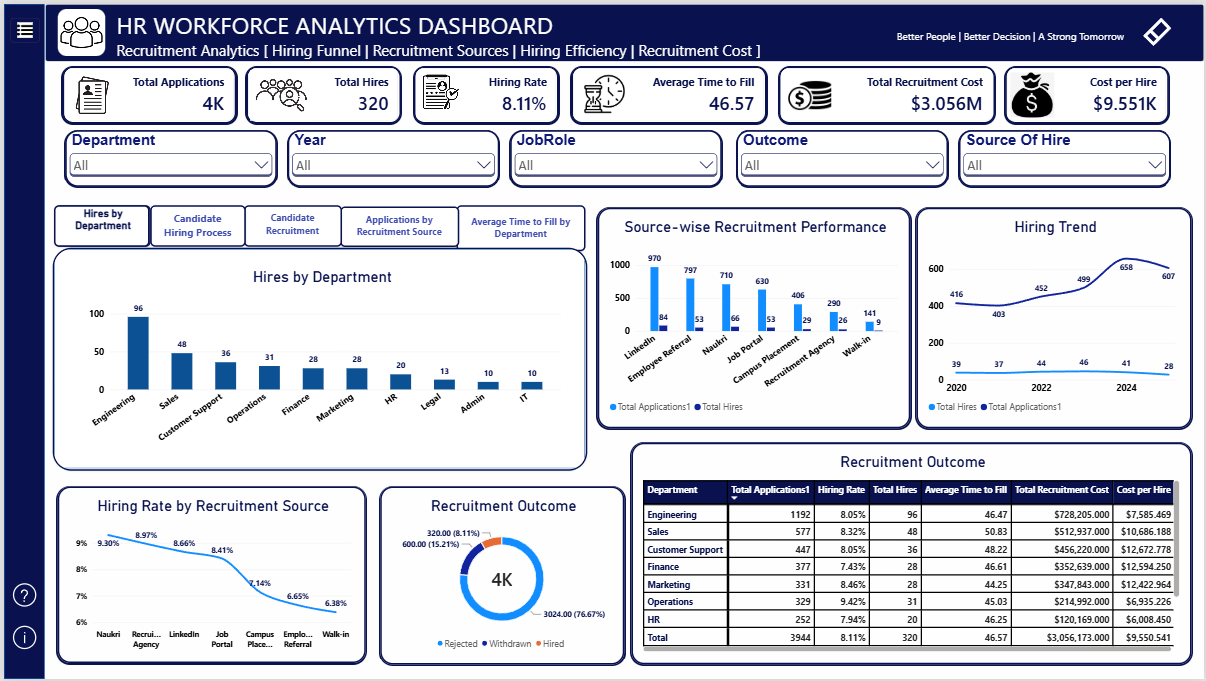

The dashboard page shown, as its layout file describes it:
{"tool":"powerbi","page":{"name":"Recruitment Analytics","canvas":[1920,1080],"ordinal":2},"visuals":[{"type":"shape","title":"side corner layout","box":[0,0,65,1080],"z":0,"group":"g14"},{"type":"actionButton","title":"top nav bar","box":[66,0,1854,92],"z":0,"group":"g13"},{"type":"cardVisual","fields":{"Data":["Measures (2).Total Recruitment Cost"]},"box":[1240.4,100,345.2,90.8],"z":0,"group":"g3"},{"type":"cardVisual","fields":{"Data":["Measures (2).Total Applications"]},"box":[94,100.2,277.4,90.8],"z":0,"group":"g7"},{"type":"cardVisual","fields":{"Data":["Measures (2).Total Hires"]},"box":[388.6,100.2,246.8,90.8],"z":0,"group":"g9"},{"type":"cardVisual","fields":{"Data":["Measures (2).Hiring Rate"]},"box":[655.6,100.2,231.5,90.8],"z":0,"group":"g8"},{"type":"cardVisual","fields":{"Data":["Measures (2).Average Time to Fill"]},"box":[907.4,100.2,311.9,90.8],"z":0,"group":"g5"},{"type":"cardVisual","fields":{"Data":["Measures (2).Cost per Hire"]},"box":[1602.7,100.6,261.3,90.8],"z":0,"group":"g1"},{"type":"group","id":"g1","title":"Group 4","box":[1602.7,100.6,261.3,90.8],"z":0,"group":"g11"},{"type":"slicer","fields":{"Values":["DimDate.Year"]},"box":[454.8,202,338.7,90],"z":0,"group":"g12"},{"type":"group","id":"g2","title":"inactive button","box":[82,322.9,848.3,73.3],"z":0,"group":"g10"},{"type":"actionButton","title":"time to fill","box":[723.7,322.9,206.7,73.3],"z":0,"group":"g2"},{"type":"shape","box":[78.7,390.7,855,356.7],"z":0,"group":"g4"},{"type":"image","title":"people icon","box":[85,7.5,76,75],"z":1000,"group":"g13"},{"type":"group","id":"g3","title":"Group 3","box":[1240.4,100,345.2,90.8],"z":1000,"group":"g11"},{"type":"image","box":[394.6,105.6,99.2,80.7],"z":1000,"group":"g9"},{"type":"image","box":[100.8,107.3,82,75.7],"z":1000,"group":"g7"},{"type":"image","box":[664.8,108.9,64.8,70.6],"z":1000,"group":"g8"},{"type":"image","box":[914.7,108.9,89.6,72.3],"z":1000,"group":"g5"},{"type":"image","box":[1611,109.6,70.6,75.7],"z":1000,"group":"g1"},{"type":"image","box":[1250.5,111.2,78.2,69],"z":1000,"group":"g3"},{"type":"slicer","fields":{"Values":["FactRecruitment.Outcome"]},"box":[1172.8,202,338.7,90],"z":1000,"group":"g12"},{"type":"group","id":"g4","title":"active buttons","box":[78.7,322.7,855,425],"z":1000,"group":"g10"},{"type":"actionButton","title":"src","box":[537,324.9,190,65],"z":1000,"group":"g2"},{"type":"actionButton","title":"info","box":[7.5,985,50,50],"z":1000,"group":"g14"},{"type":"actionButton","title":"clear slicer","box":[1794,12,102,66],"z":1500,"group":"g13"},{"type":"textbox","box":[180,7.5,1220,85],"z":2000,"group":"g13"},{"type":"group","id":"g5","title":"Group 1","box":[907.4,100.2,311.9,90.8],"z":2000,"group":"g11"},{"type":"slicer","fields":{"Values":["DimDepartment.Department"]},"box":[98,202,338.7,90],"z":2000,"group":"g12"},{"type":"actionButton","title":"c_rect","box":[383.7,323.3,156.7,66.7],"z":2000,"group":"g2"},{"type":"group","id":"g6","title":"charts","box":[97.2,397.8,816.6,341.4],"z":2000,"group":"g10"},{"type":"actionButton","title":"help","box":[7.5,917.5,50,50],"z":2000,"group":"g14"},{"type":"textbox","box":[1306,22,486,62],"z":2500,"group":"g13"},{"type":"actionButton","title":"menu Button","box":[10,22.5,47.5,40],"z":3000,"group":"g14"},{"type":"group","id":"g7","title":"Group 1","box":[94,100.2,277.4,90.8],"z":3000,"group":"g11"},{"type":"slicer","fields":{"Values":["FactRecruitment.SourceOfHire"]},"box":[1527.3,202,338.7,90],"z":3000,"group":"g12"},{"type":"actionButton","title":"candidate","box":[234.5,323.8,152.5,66.2],"z":3000,"group":"g2"},{"type":"group","id":"g8","title":"Group 1","box":[655.6,100.2,231.5,90.8],"z":4000,"group":"g11"},{"type":"slicer","fields":{"Values":["DimEmployee.JobRole"]},"box":[809.3,202,338.7,90],"z":4000,"group":"g12"},{"type":"actionButton","title":"hires by dept","box":[82,323.8,152.5,66.2],"z":4000,"group":"g2"},{"type":"clusteredColumnChart","title":"Hires by Department","fields":{"Category":["DimDepartment.Department"],"Y":["Measures (2).Total Hires"]},"box":[113.7,407.7,795,323.3],"z":4000,"group":"g6"},{"type":"group","id":"g9","title":"Group 1","box":[388.6,100.2,246.8,90.8],"z":5000,"group":"g11"},{"type":"actionButton","title":"Hires by Department","box":[81.4,323.3,152.5,66.2],"z":5000,"group":"g4"},{"type":"lineChart","title":"Hiring Trend","fields":{"Category":["DimDate.Year"],"Y":["Measures (2).Total Hires","Measures (2).Total Applications1"]},"box":[1460,325,440,352.5],"z":5000},{"type":"clusteredColumnChart","title":"Source-wise Recruitment Performance","fields":{"Category":["FactRecruitment.SourceOfHire"],"Y":["Measures (2).Total Applications1","Measures (2).Total Hires"]},"box":[950,325,500,352.5],"z":6000},{"type":"lineChart","title":"Hiring Rate by Recruitment Source","fields":{"Category":["FactRecruitment.SourceOfHire"],"Y":["Measures (2).Hiring Rate"]},"box":[85,772.5,492.5,282.5],"z":7000},{"type":"donutChart","title":"Recruitment Outcome","fields":{"Category":["FactRecruitment.Outcome"],"Y":["Measures (2).Total Applications1"]},"box":[602.5,772.5,390,285],"z":8000},{"type":"pivotTable","title":"Recruitment Outcome","fields":{"Rows":["DimDepartment.Department"],"Values":["Measures (2).Total Applications1","Measures (2).Hiring Rate","Measures (2).Total Hires","Measures (2).Average Time to Fill","Measures (2).Total Recruitment Cost","Measures (2).Cost per Hire"]},"box":[1004,702,896,354],"z":9000},{"type":"group","id":"g10","title":"charts","box":[78.7,322.7,855,425],"z":10000},{"type":"group","id":"g11","title":"Group 2","box":[94,100,1770,92],"z":10031},{"type":"group","id":"g12","title":"slicer","box":[98,202,1768,90],"z":10062},{"type":"group","id":"g13","title":"top nav bar","box":[66,0,1854,92.5],"z":10156},{"type":"group","id":"g14","title":"menu bar","box":[0,0,66,1080],"z":10500}]}

Visuals, with their boxes in screenshot pixels (x1, y1, x2, y2), scaled from the page's 1920x1080 canvas onto the 1206x681 screenshot:
"side corner layout" shape: select_region(0, 0, 41, 680)
"top nav bar" actionButton: select_region(41, 0, 1205, 58)
cardVisual - Measures (2).Total Recruitment Cost: select_region(779, 63, 996, 120)
cardVisual - Measures (2).Total Applications: select_region(59, 63, 233, 120)
cardVisual - Measures (2).Total Hires: select_region(244, 63, 399, 120)
cardVisual - Measures (2).Hiring Rate: select_region(412, 63, 557, 120)
cardVisual - Measures (2).Average Time to Fill: select_region(570, 63, 766, 120)
cardVisual - Measures (2).Cost per Hire: select_region(1007, 63, 1171, 121)
"Group 4" group: select_region(1007, 63, 1171, 121)
slicer - DimDate.Year: select_region(286, 127, 498, 184)
"inactive button" group: select_region(52, 204, 584, 250)
"time to fill" actionButton: select_region(455, 204, 584, 250)
shape: select_region(49, 246, 586, 471)
"people icon" image: select_region(53, 5, 101, 52)
"Group 3" group: select_region(779, 63, 996, 120)
image: select_region(248, 67, 310, 117)
image: select_region(63, 68, 115, 115)
image: select_region(418, 69, 458, 113)
image: select_region(575, 69, 631, 114)
image: select_region(1012, 69, 1056, 117)
image: select_region(785, 70, 835, 114)
slicer - FactRecruitment.Outcome: select_region(737, 127, 949, 184)
"active buttons" group: select_region(49, 203, 586, 471)
"src" actionButton: select_region(337, 205, 457, 246)
"info" actionButton: select_region(5, 621, 36, 653)
"clear slicer" actionButton: select_region(1127, 8, 1191, 49)
textbox: select_region(113, 5, 879, 58)
"Group 1" group: select_region(570, 63, 766, 120)
slicer - DimDepartment.Department: select_region(62, 127, 274, 184)
"c_rect" actionButton: select_region(241, 204, 339, 246)
"charts" group: select_region(61, 251, 574, 466)
"help" actionButton: select_region(5, 579, 36, 610)
textbox: select_region(820, 14, 1126, 53)
"menu Button" actionButton: select_region(6, 14, 36, 39)
"Group 1" group: select_region(59, 63, 233, 120)
slicer - FactRecruitment.SourceOfHire: select_region(959, 127, 1172, 184)
"candidate" actionButton: select_region(147, 204, 243, 246)
"Group 1" group: select_region(412, 63, 557, 120)
slicer - DimEmployee.JobRole: select_region(508, 127, 721, 184)
"hires by dept" actionButton: select_region(52, 204, 147, 246)
"Hires by Department" clusteredColumnChart: select_region(71, 257, 571, 461)
"Group 1" group: select_region(244, 63, 399, 120)
"Hires by Department" actionButton: select_region(51, 204, 147, 246)
"Hiring Trend" lineChart: select_region(917, 205, 1193, 427)
"Source-wise Recruitment Performance" clusteredColumnChart: select_region(597, 205, 911, 427)
"Hiring Rate by Recruitment Source" lineChart: select_region(53, 487, 363, 665)
"Recruitment Outcome" donutChart: select_region(378, 487, 623, 667)
"Recruitment Outcome" pivotTable: select_region(631, 443, 1193, 666)
"charts" group: select_region(49, 203, 586, 471)
"Group 2" group: select_region(59, 63, 1171, 121)
"slicer" group: select_region(62, 127, 1172, 184)
"top nav bar" group: select_region(41, 0, 1205, 58)
"menu bar" group: select_region(0, 0, 41, 680)
